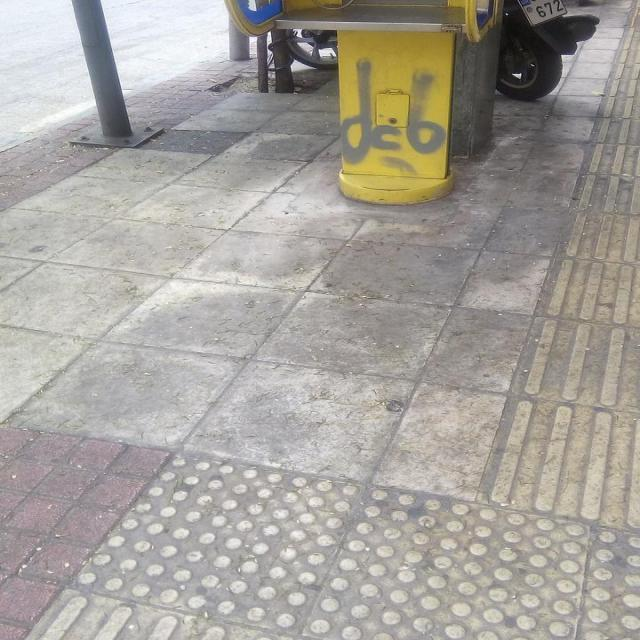nonspitting: (340, 60, 444, 164)
